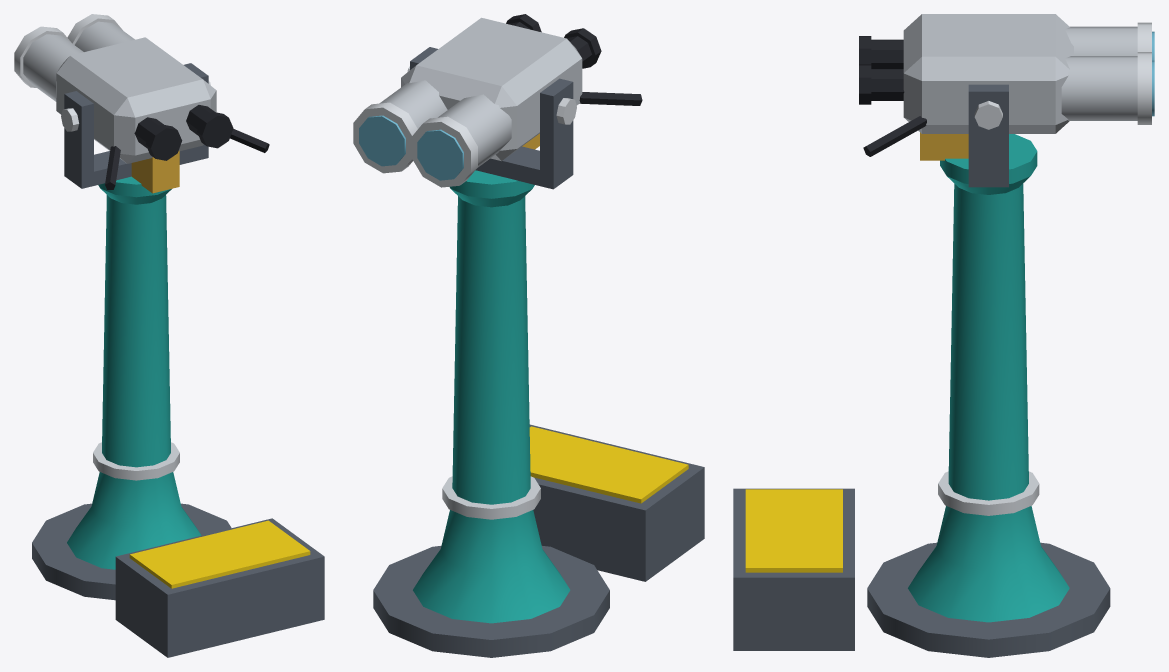
Rendered from viewpoint_binoculars.glb.
3 renders of one model, left to right at view 1: azimuth 30°, elevation 25°; view 2: azimuth 150°, elevation 25°; view 3: azimuth 270°, elevation 25°, orthographic. The views are drawn at different scales.
Parts seen in each view (by area): view 1: Viewer; view 2: Viewer; view 3: Viewer.
Part boxes in pixels (<box>): Viewer: <box>14,14,324,657</box>; Viewer: <box>353,14,704,657</box>; Viewer: <box>733,14,1154,657</box>.
Size of the model in its own units: 0.6 by 1.56 by 1.04.
